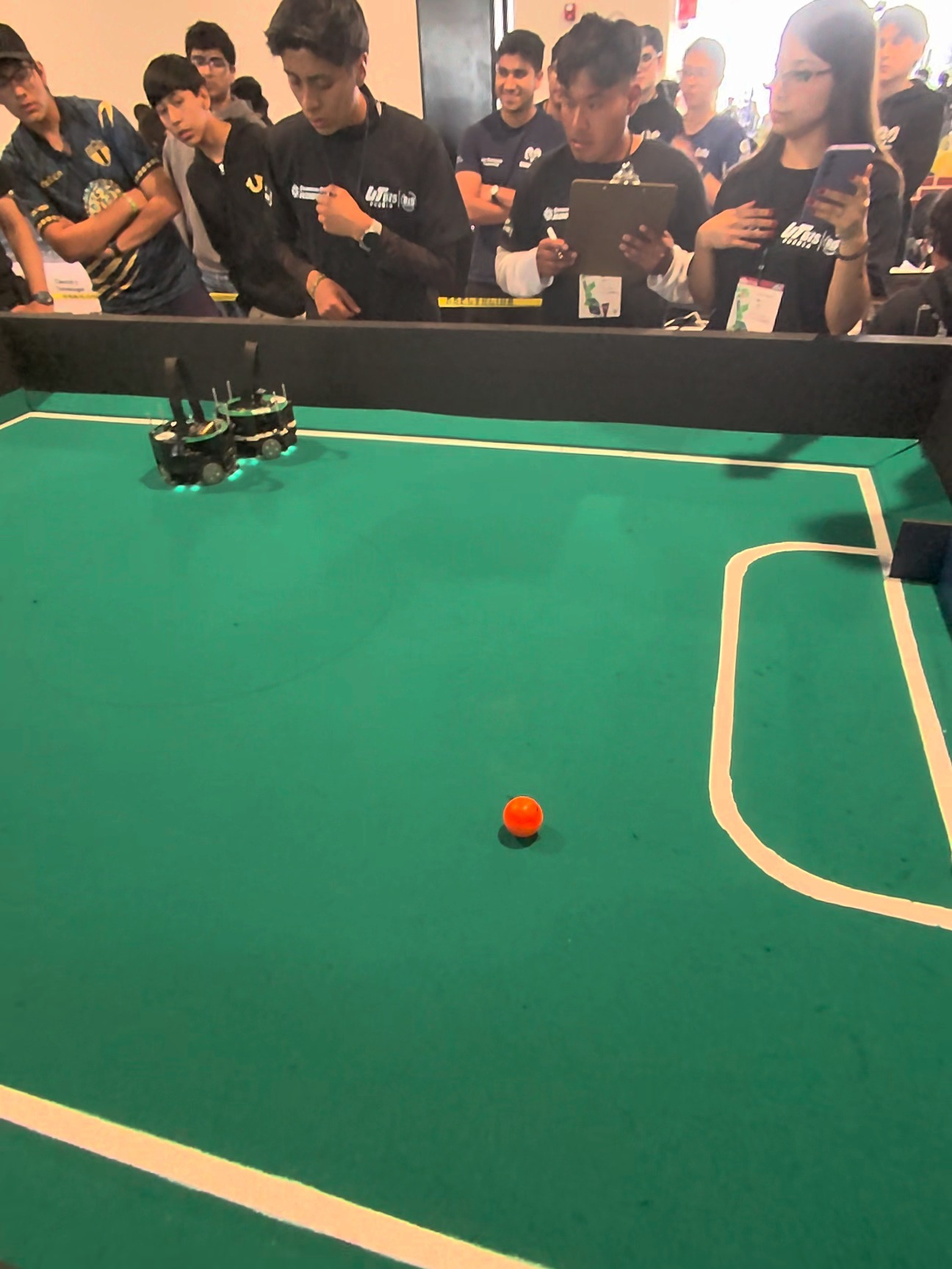Robot: (151, 345, 243, 506), (231, 338, 303, 465)
pelota: (502, 795, 546, 849)
